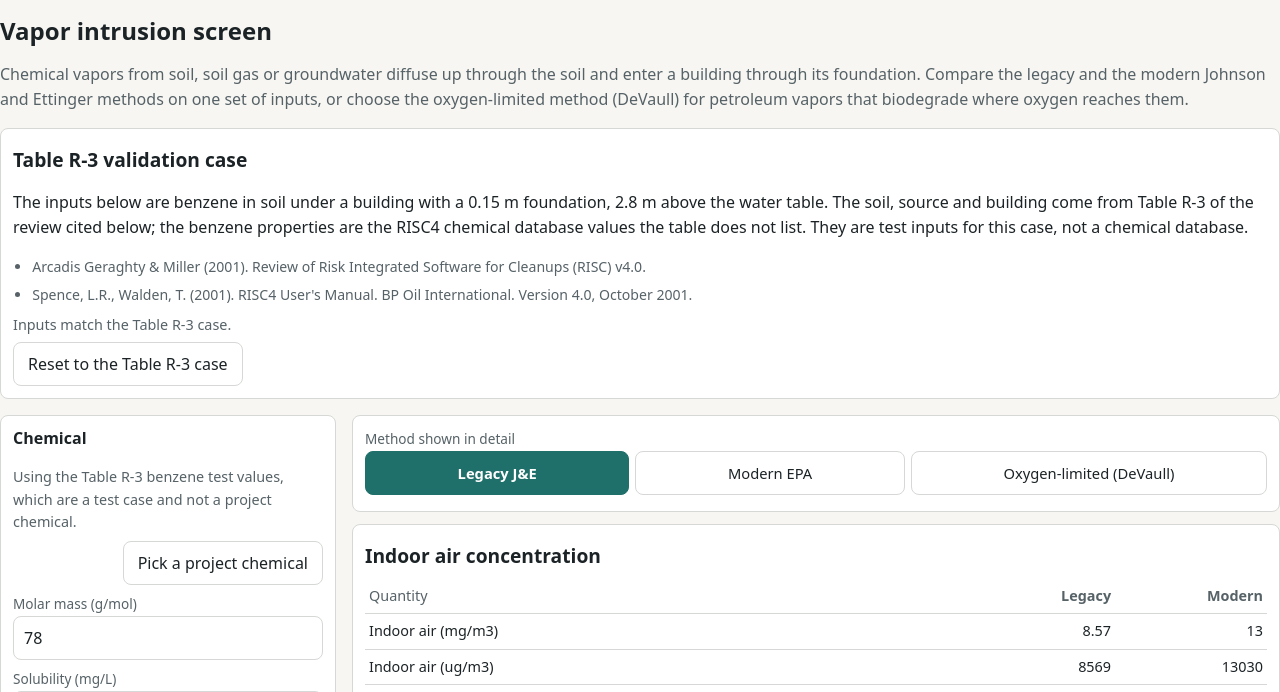
Test: oxygen-limited method on the vapor screen › adds a column, the details, a profile curve and the input group once chosen
The width and height of the screenshot is (1280, 692).
Click the radio button labelled "Oxygen-limited (DeVaull)" at (1089, 473), box [911,451,1267,495]
(page scrolled)
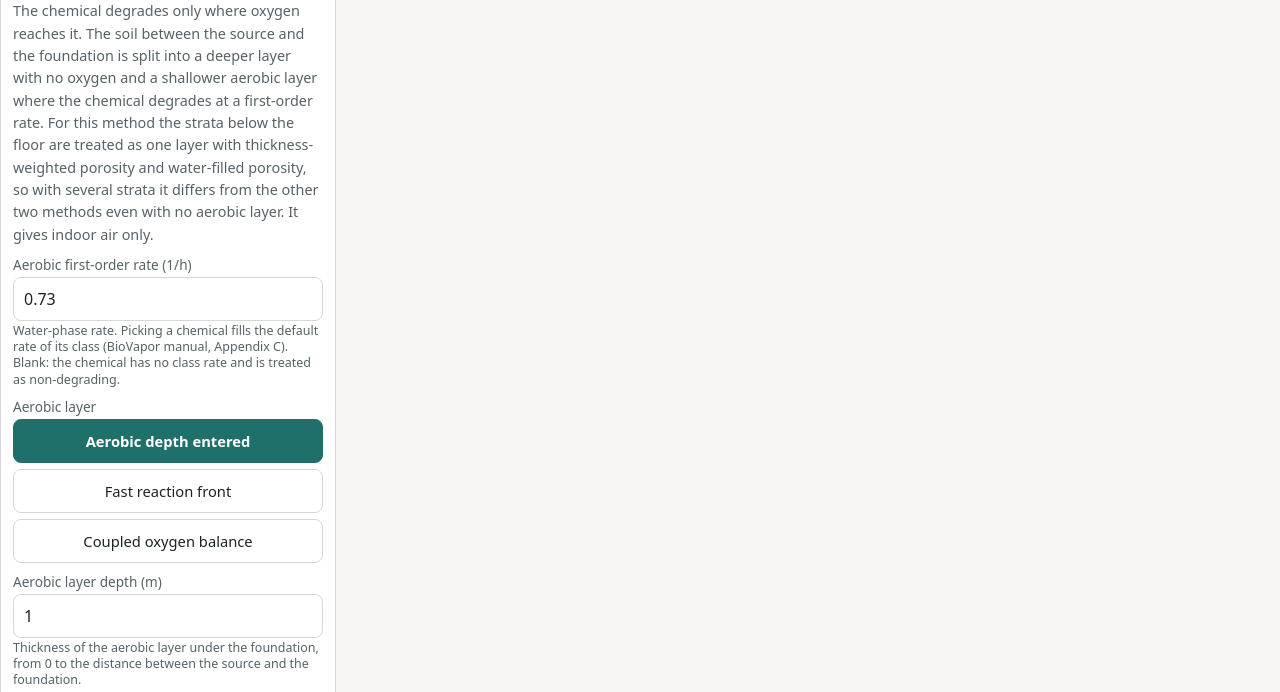
Expected: the field labelled "Aerobic layer depth" is shown, [13,594,323,638]
